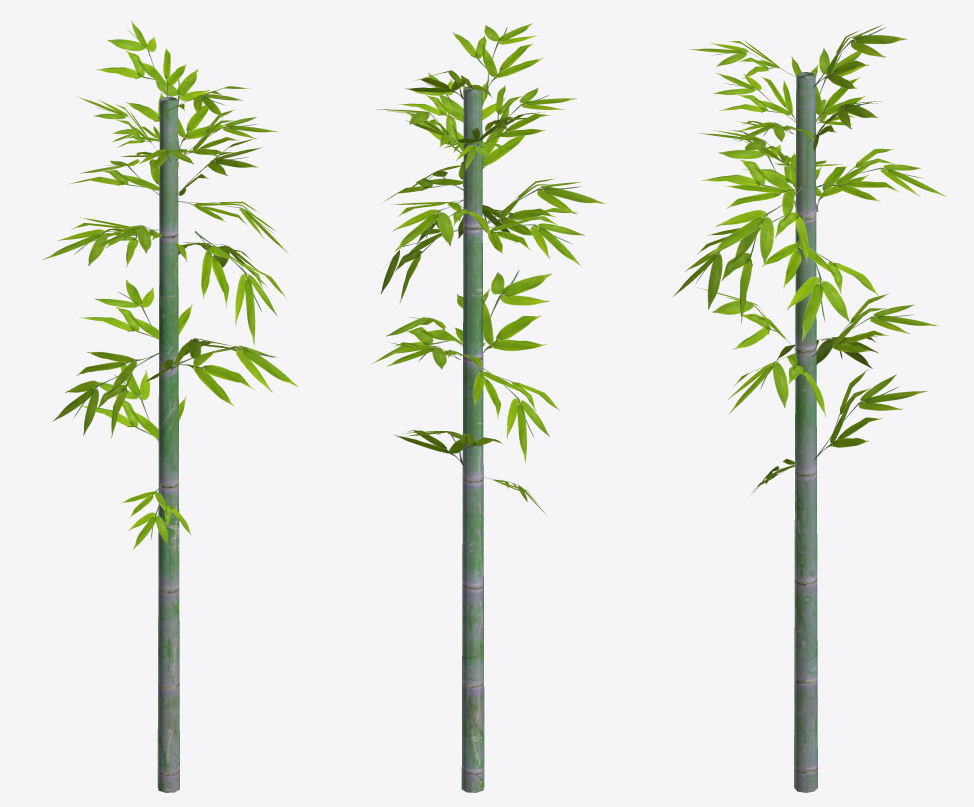
File: bambooSet1.fbx
3 renders of one model, left to right at view 1: azimuth 30°, elevation 25°; view 2: azimuth 150°, elevation 25°; view 3: azimuth 270°, elevation 25°, orthographic. The views are drawn at different scales.
Visible parts, largest first — view 1: bamboo tree 1; view 2: bamboo tree 1; view 3: bamboo tree 1.
Part boxes in pixels (bbox=[...]): bamboo tree 1: bbox=[42, 20, 298, 792]; bamboo tree 1: bbox=[371, 23, 605, 792]; bamboo tree 1: bbox=[672, 25, 946, 792].
Size of the model in its own units: 143 by 392 by 142.
